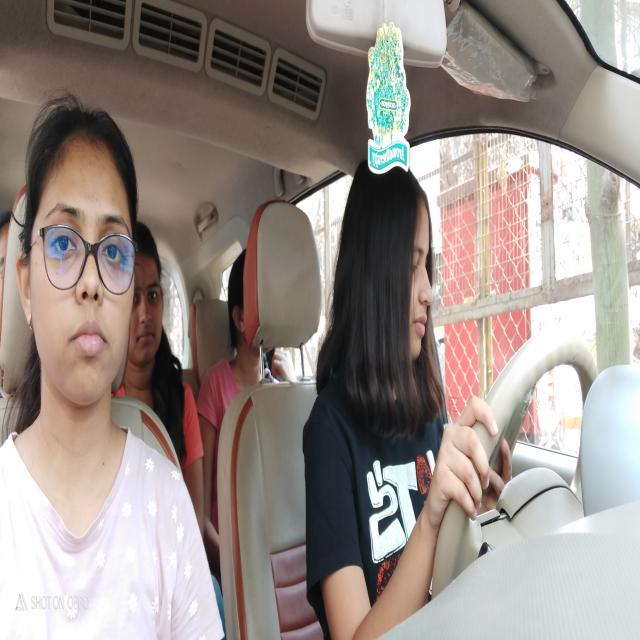mobile: (486, 366, 534, 486)
person: (25, 102, 135, 404), (345, 156, 437, 382), (228, 249, 270, 377), (133, 221, 166, 371)
